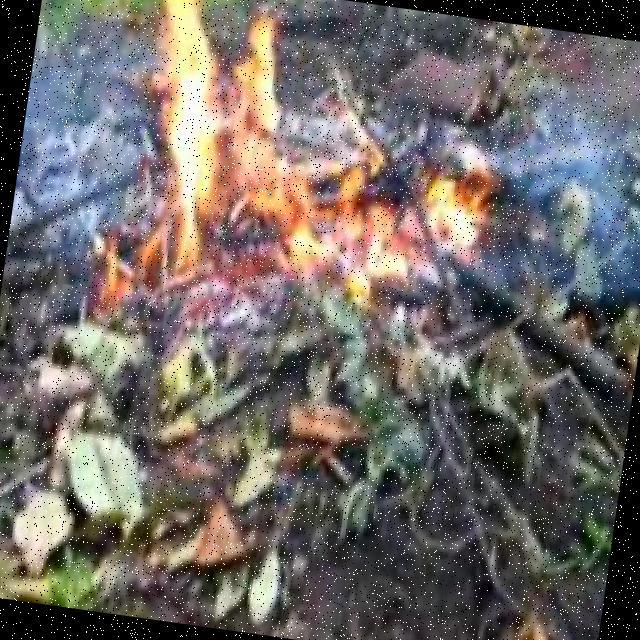Fire: (113, 0, 298, 282), (193, 140, 476, 295)
